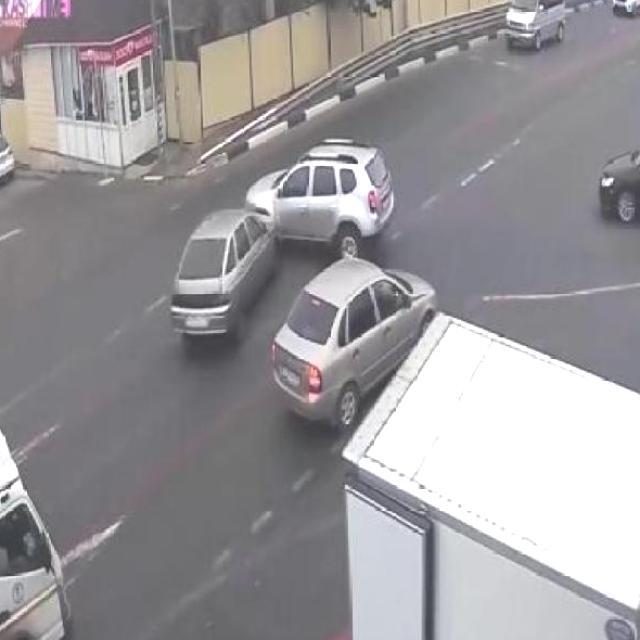accident: (166, 136, 397, 348)
